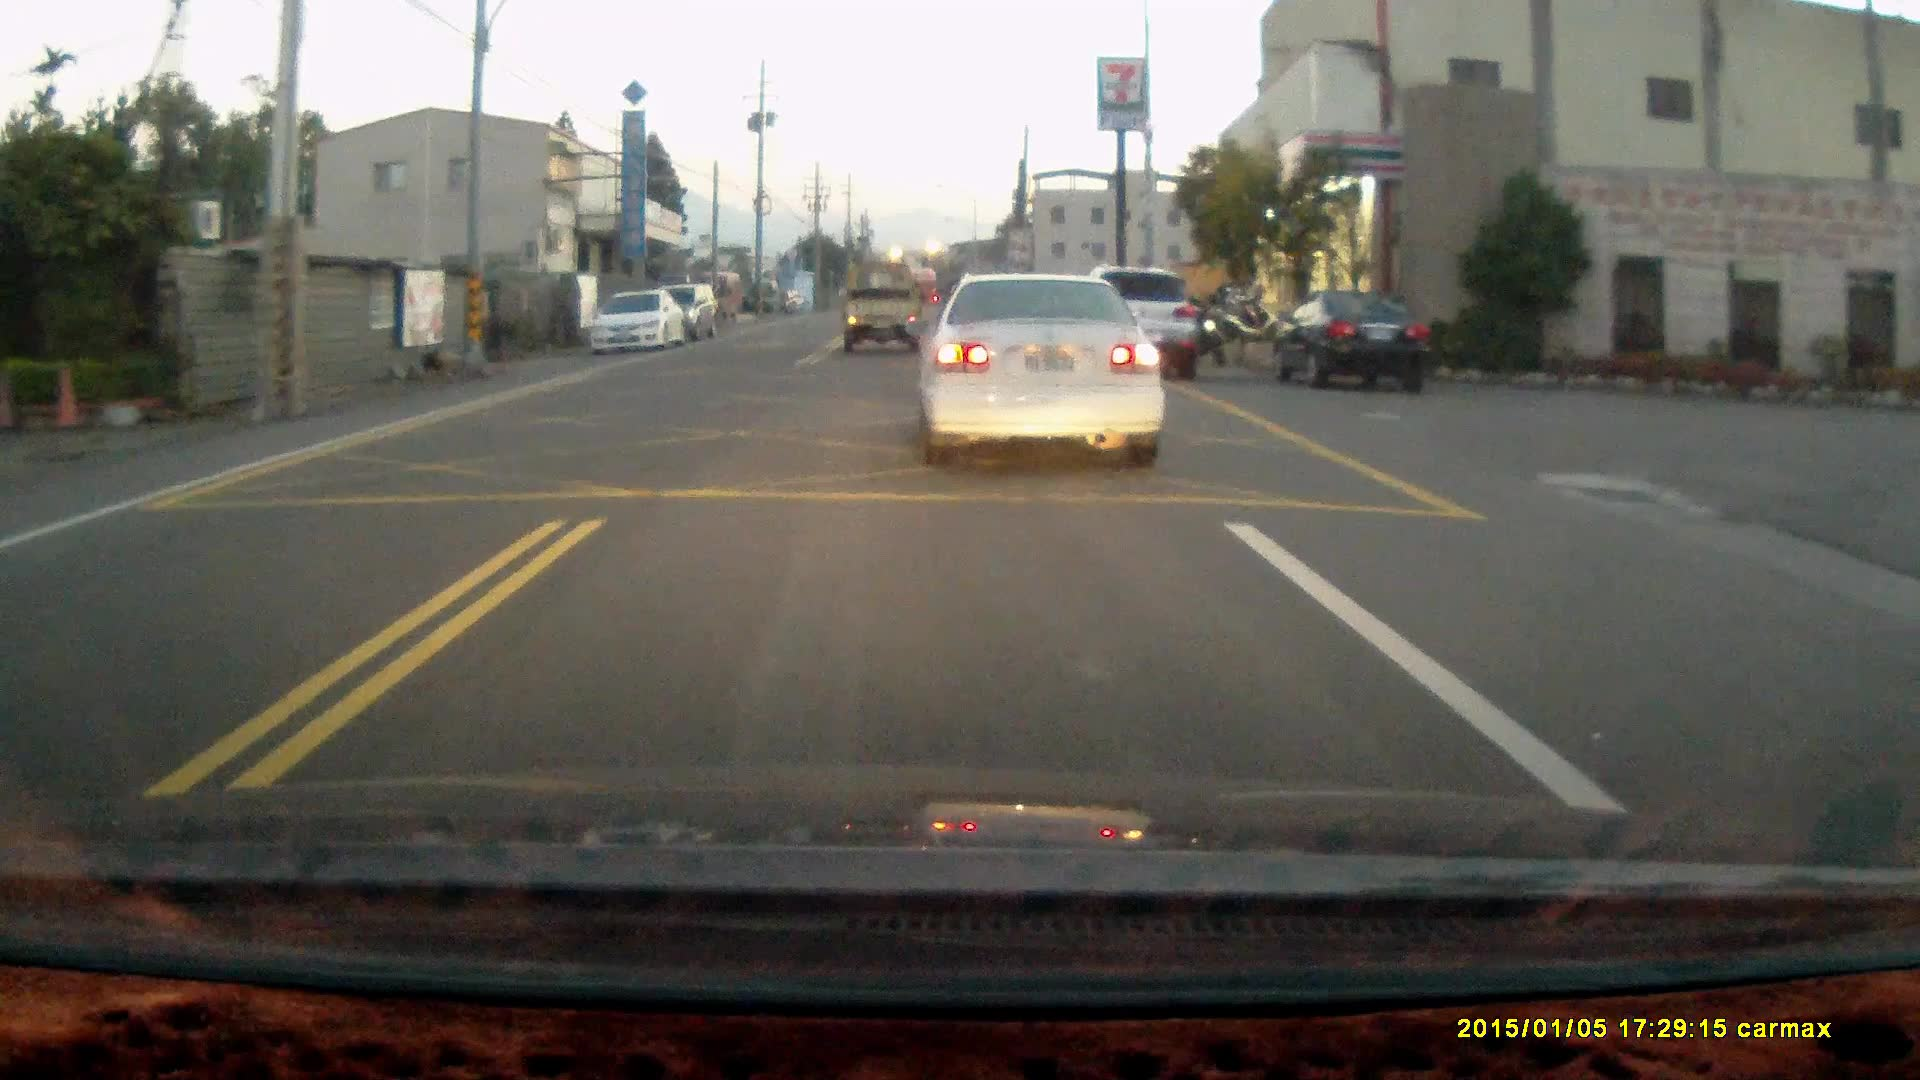vehicle: (916, 270, 1168, 473), (1269, 289, 1435, 394), (1075, 265, 1201, 378), (841, 264, 930, 356), (582, 287, 688, 357), (654, 282, 720, 345)
